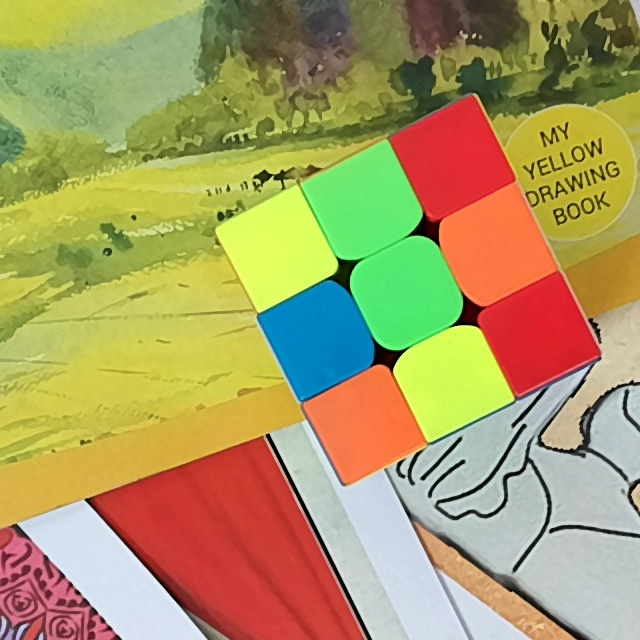tile: (462, 211, 532, 280), (371, 258, 442, 326), (420, 123, 487, 192), (285, 302, 353, 369), (507, 299, 573, 368), (334, 390, 399, 458), (331, 170, 397, 236), (418, 346, 485, 410), (244, 217, 309, 282)
